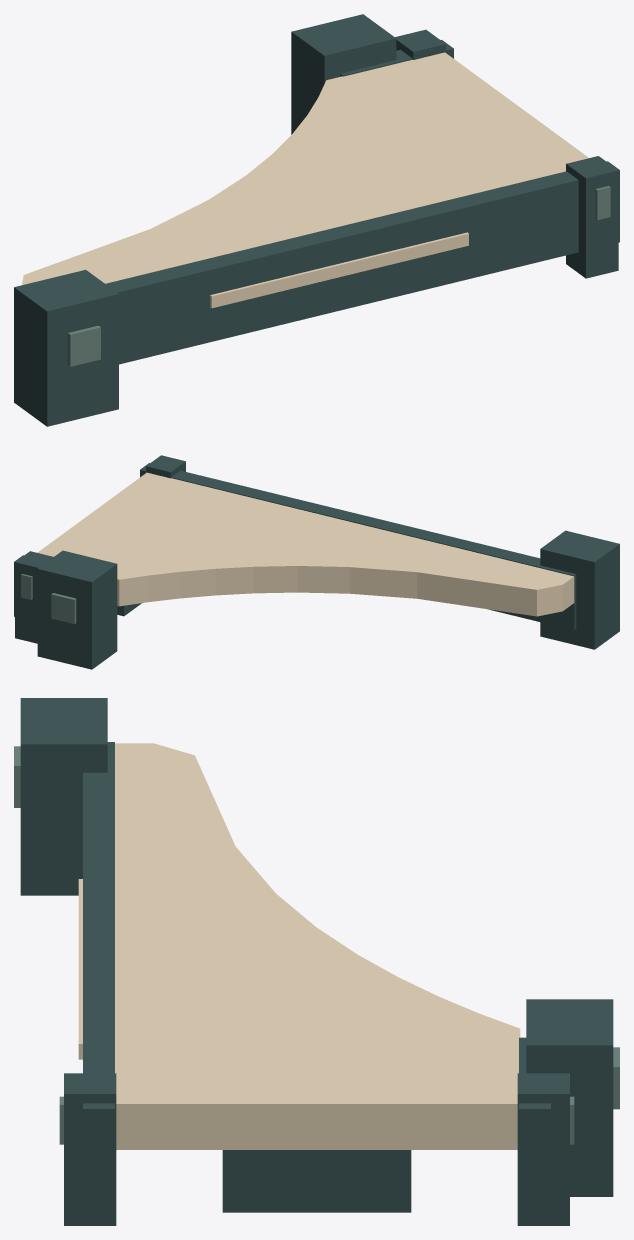
Rendered from Pier_Angled_60.glb.
The picture shows the model from 3 angles, top to bottom: view 1: azimuth 30°, elevation 25°; view 2: azimuth 150°, elevation 25°; view 3: azimuth 270°, elevation 25°; orthographic projection. The views are drawn at different scales.
Parts seen in each view (by area): view 1: Pier_Angled_60; view 2: Pier_Angled_60; view 3: Pier_Angled_60.
Boxes of the visible parts, x1,y1,x2,y2 form: Pier_Angled_60: (14,14,619,426); Pier_Angled_60: (14,455,619,669); Pier_Angled_60: (14,698,619,1225).
Size of the model in its own units: 6.23 by 1.15 by 4.17.
